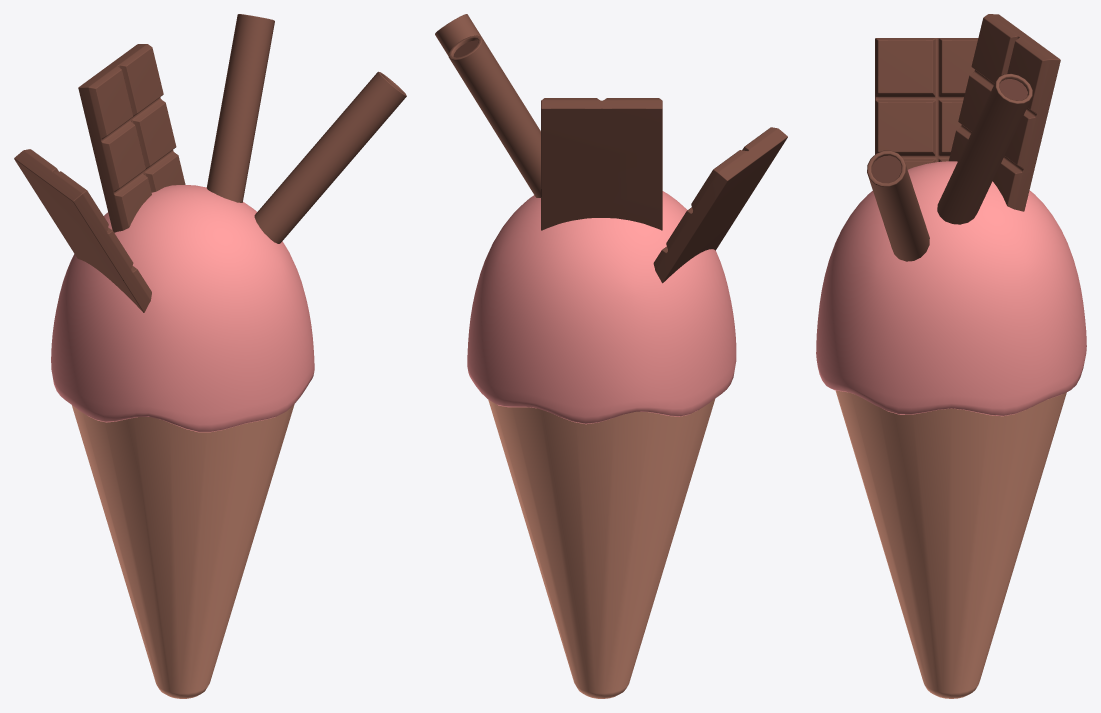
File: Store_4_Ice_Cream_4.glb
3 renders of one model, left to right at view 1: azimuth 30°, elevation 25°; view 2: azimuth 150°, elevation 25°; view 3: azimuth 270°, elevation 25°, orthographic. The views are drawn at different scales.
Visible parts, largest first — view 1: Store_4_Ice_Cream_4; view 2: Store_4_Ice_Cream_4; view 3: Store_4_Ice_Cream_4.
Part boxes in pixels (<box>): Store_4_Ice_Cream_4: <box>14,14,406,698</box>; Store_4_Ice_Cream_4: <box>435,14,787,698</box>; Store_4_Ice_Cream_4: <box>816,14,1086,698</box>.
Size of the model in its own units: 0.2562 by 0.4622 by 0.1706.
Materials: 1 (1 with a texture image).
